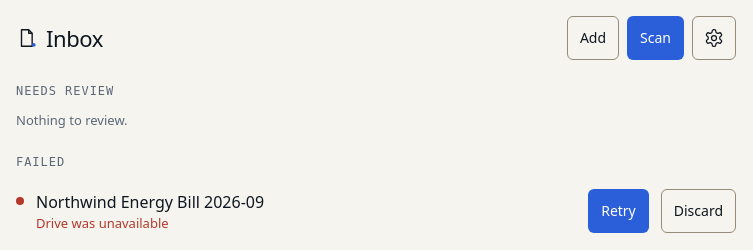
InboxScreen › retries a failed document
Check: the text "Drive was unavailable" is shown, box [36,214,169,232]
What coordinates should you click on to do the following:
click the button "Retry"
I would click on:
 (618, 211)
Its box is [588,189,649,233].
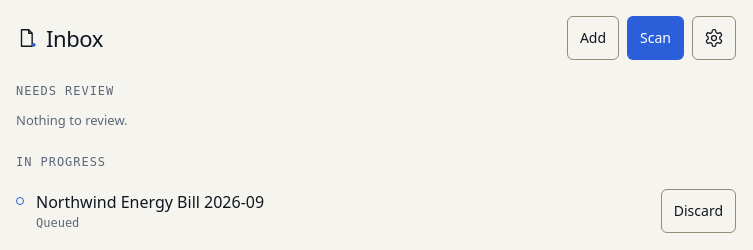
Check: the heading "Failed" is gone
